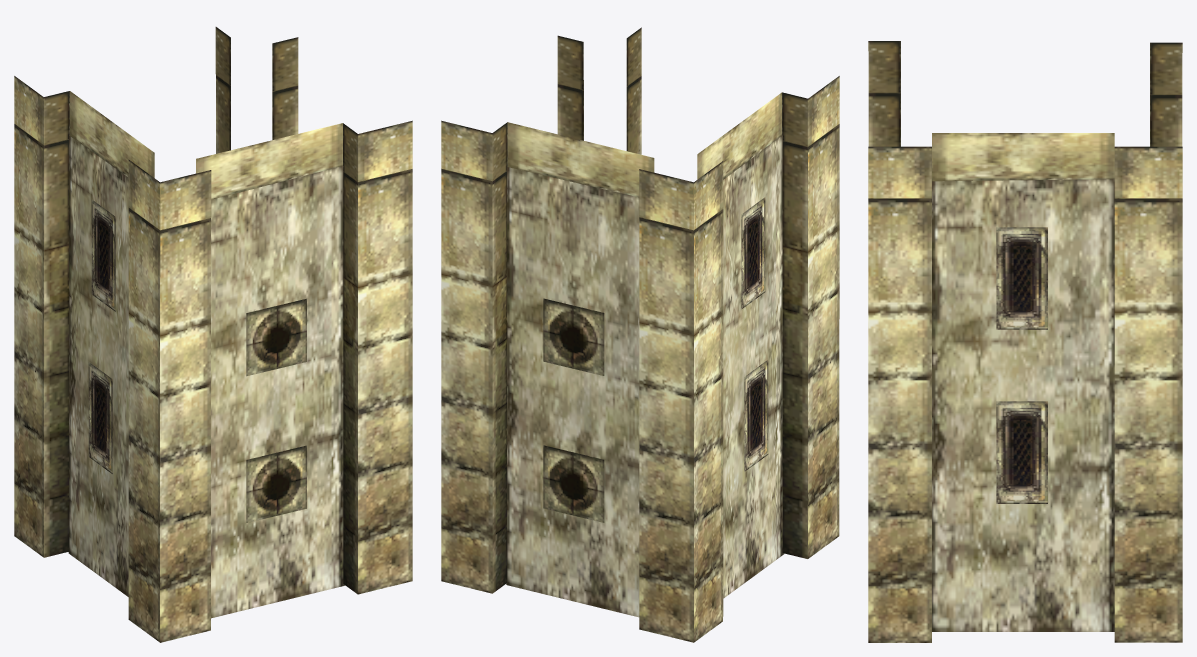
File: OZ_09_SN_tower01AC.glb
The picture shows the model from 3 angles, left to right: view 1: azimuth 30°, elevation 25°; view 2: azimuth 150°, elevation 25°; view 3: azimuth 270°, elevation 25°; orthographic projection. The views are drawn at different scales.
Parts seen in each view (by area): view 1: OM_09_SN_tower01AC; view 2: OM_09_SN_tower01AC; view 3: OM_09_SN_tower01AC.
Boxes of the visible parts, x1,y1,x2,y2 form: OM_09_SN_tower01AC: (14,27,412,642); OM_09_SN_tower01AC: (441,27,839,642); OM_09_SN_tower01AC: (868,41,1182,642).
Size of the model in its own units: 2.58 by 4.52 by 2.58.
Materials: 4 (4 with a texture image).
